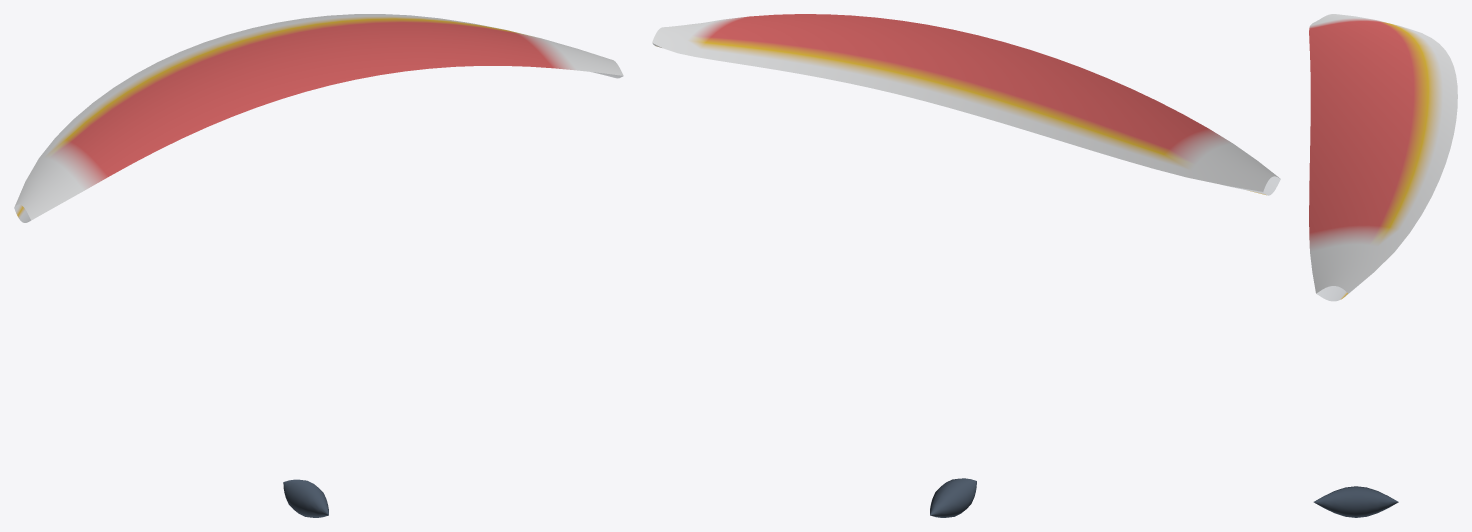
The model's file is paraglider.glb.
The picture shows the model from 3 angles, left to right: view 1: azimuth 30°, elevation 25°; view 2: azimuth 150°, elevation 25°; view 3: azimuth 270°, elevation 25°; orthographic projection. The views are drawn at different scales.
Parts seen in each view (by area): view 1: Paraglider; view 2: Paraglider; view 3: Paraglider.
Boxes of the visible parts, x1,y1,x2,y2 form: Paraglider: (14, 14, 623, 517); Paraglider: (652, 14, 1280, 517); Paraglider: (1309, 14, 1457, 517).
Bounding box in the file's own units: 10.5 × 7.7 × 2.43.
